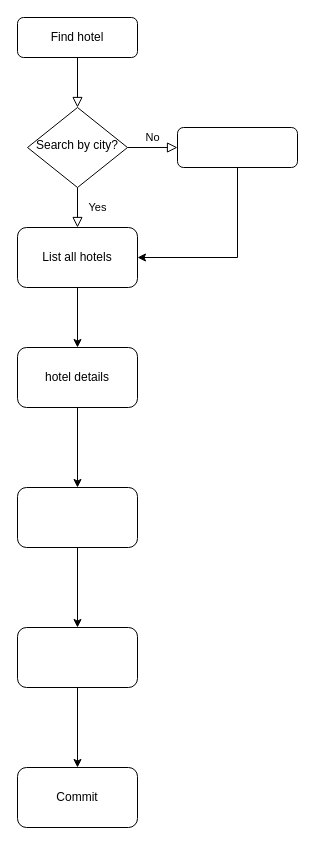
Some shapes in this 315 by 845 pixel diagram are drawn without their labels. Here are the shapes that lost their labels. From the top down, the box of each, then its label:
(176, 126, 298, 168): Find hotel and near by hotels
(16, 486, 138, 548): Agreement
(16, 626, 138, 688): Book
